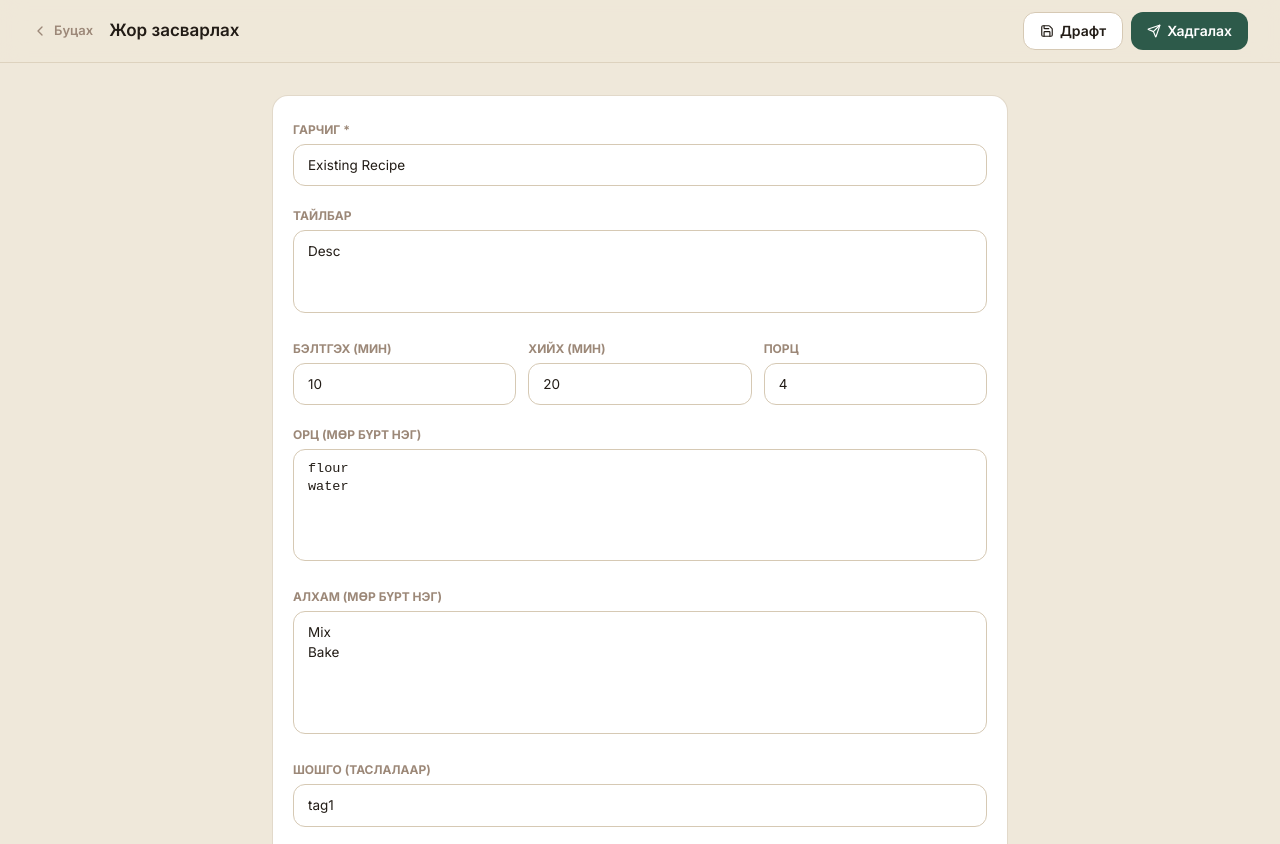
Test: EditRecipePage — update recipe › shows error when title is cleared on publish
Clear the field showing "Existing Recipe" below "Гарчиг *" at coordinates (640, 165), box [293, 144, 987, 186]
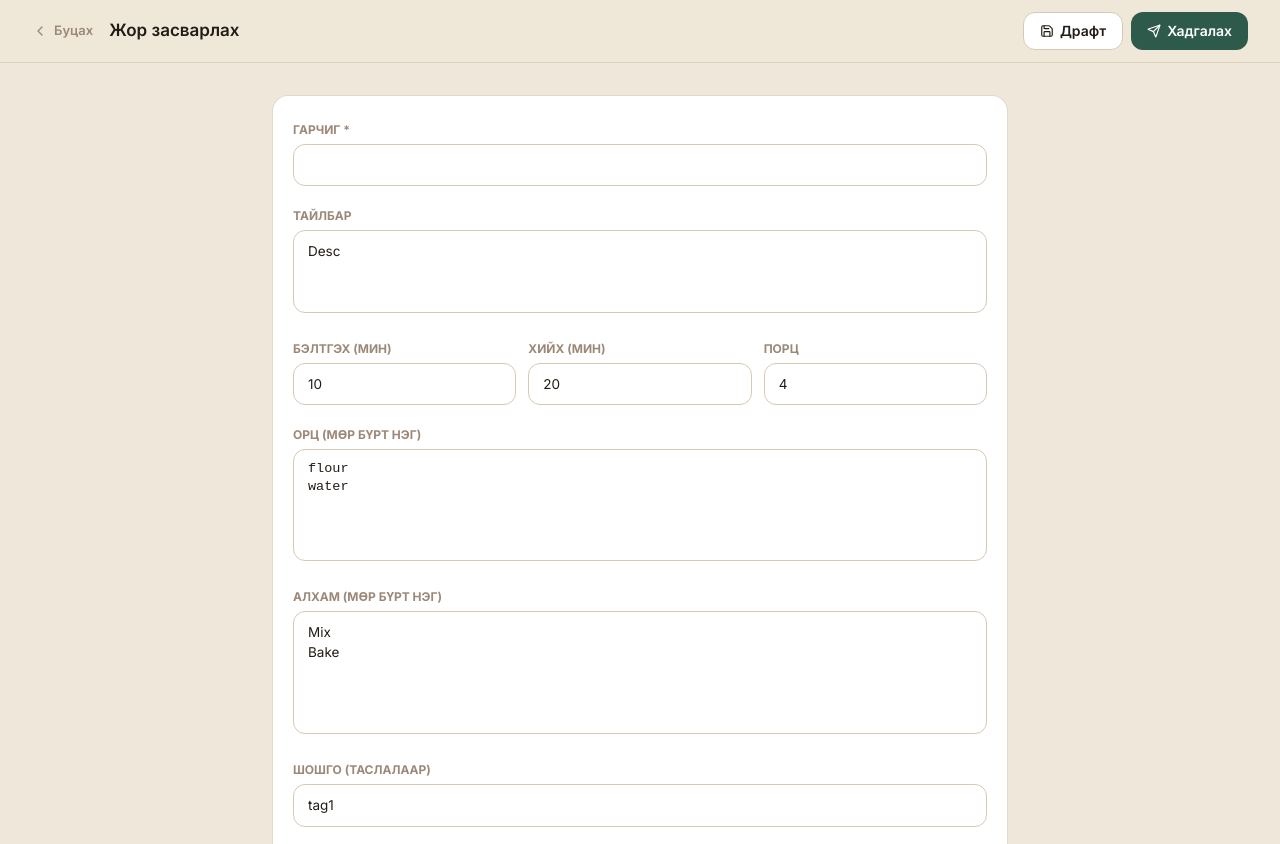
Click the button "Хадгалах".
click(1190, 31)  # box [1131, 12, 1248, 50]
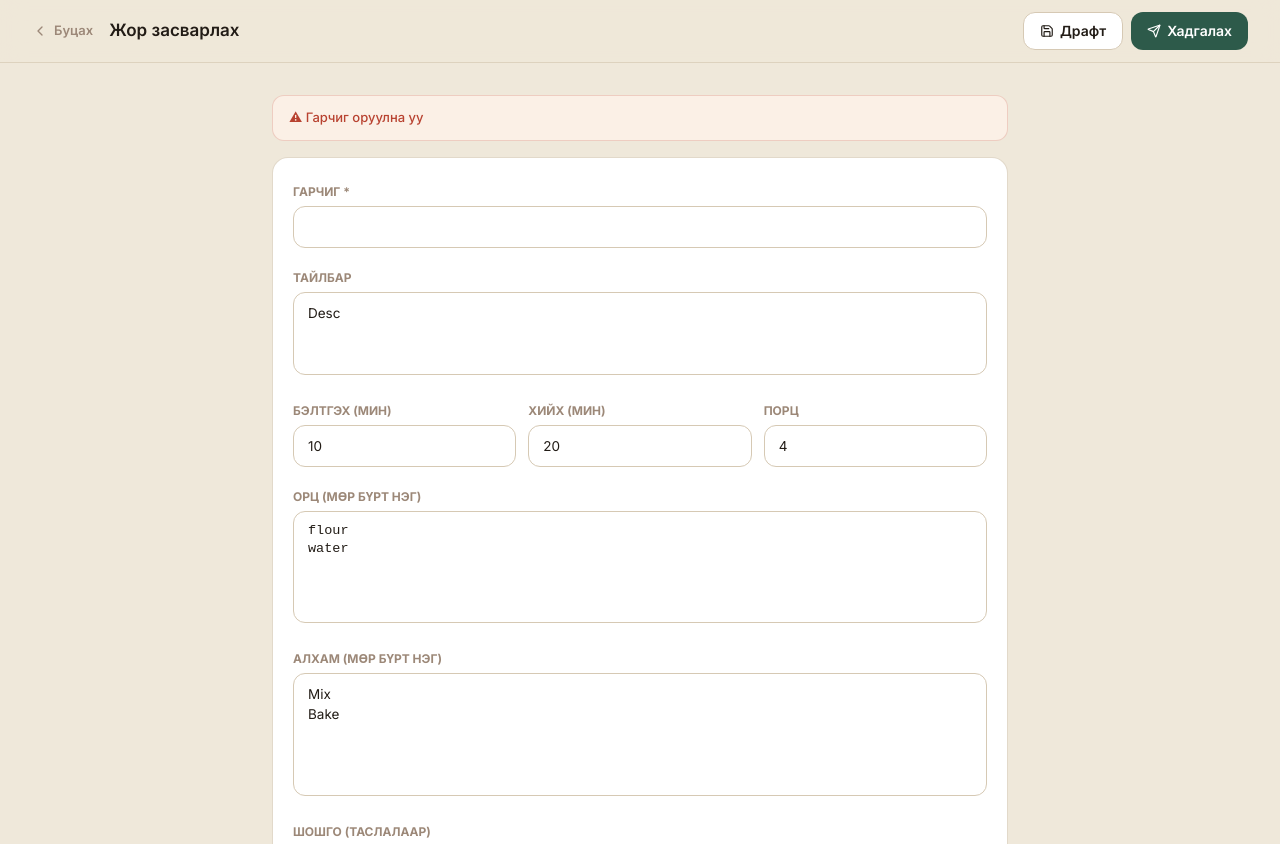
Check: the text "⚠ Гарчиг оруулна уу" is shown, box [272, 95, 1008, 140]
